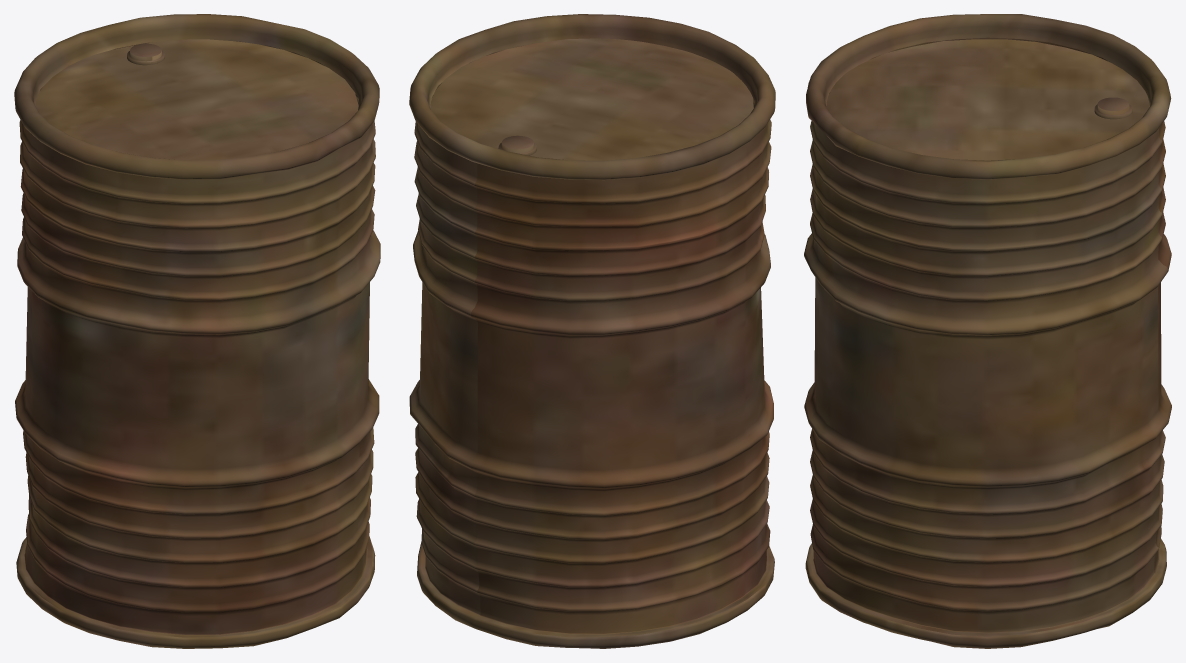
File: Barrel.glb
The picture shows the model from 3 angles, left to right: view 1: azimuth 30°, elevation 25°; view 2: azimuth 150°, elevation 25°; view 3: azimuth 270°, elevation 25°; orthographic projection.
Visible parts, largest first — view 1: Oil barrel_Red, LID; view 2: Oil barrel_Red, LID; view 3: Oil barrel_Red, LID.
Part boxes in pixels (<box>): Oil barrel_Red: <box>14,14,380,648</box>; LID: <box>35,39,358,160</box>; Oil barrel_Red: <box>409,14,775,648</box>; LID: <box>430,38,753,160</box>; Oil barrel_Red: <box>804,14,1171,648</box>; LID: <box>826,39,1149,160</box>.
Size of the model in its own units: 0.6376 by 0.9309 by 0.6355.
Materials: 1 (1 with a texture image).
